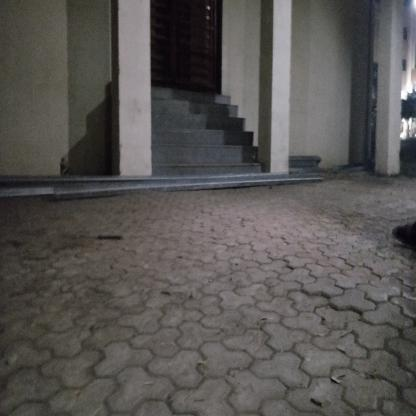stairs: (154, 89, 238, 177)
